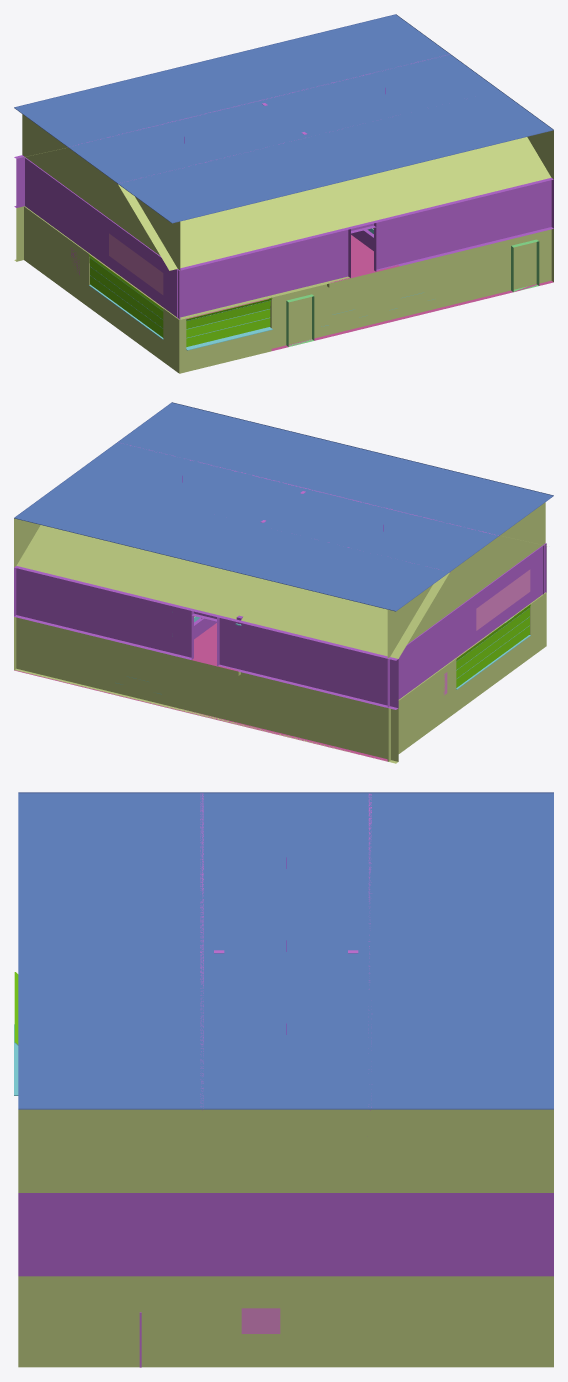
File: EZ Cafe.fbx
3 renders of one model, top to bottom at view 1: azimuth 30°, elevation 25°; view 2: azimuth 150°, elevation 25°; view 3: azimuth 270°, elevation 25°, orthographic. The views are drawn at different scales.
Visible parts, largest first — view 1: room_mesh; view 2: room_mesh; view 3: room_mesh.
Boxes of the visible parts, <box> form: room_mesh: <box>14,14,553,373</box>; room_mesh: <box>14,402,553,763</box>; room_mesh: <box>14,792,553,1367</box>.
Bounding box in the file's own units: 1807 × 711 × 1290.
